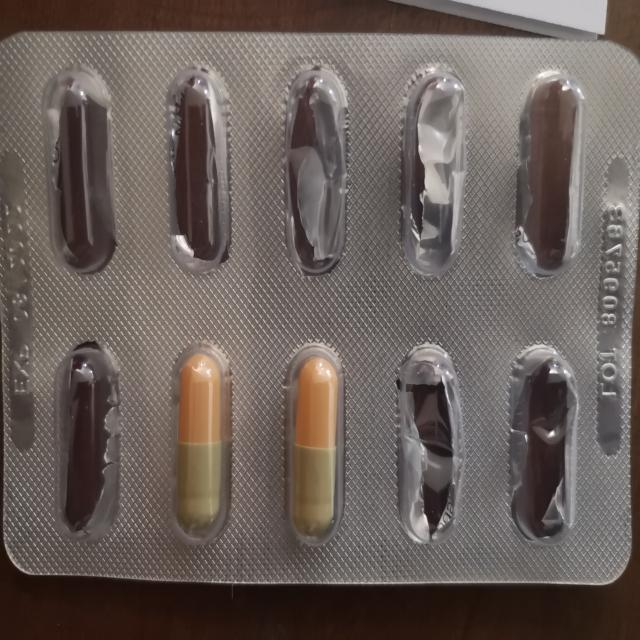Empty: (272, 48, 363, 285), (32, 56, 128, 277), (502, 60, 594, 283), (388, 53, 475, 287), (154, 56, 241, 278), (384, 336, 472, 550), (44, 332, 129, 548), (500, 339, 583, 552)
Pill: (274, 334, 356, 558), (164, 333, 246, 555)
